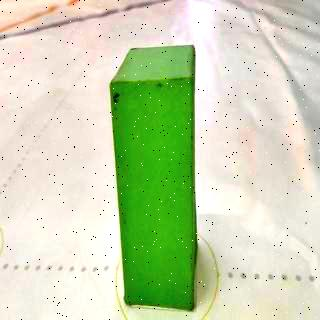greenbox: (108, 44, 200, 312)
